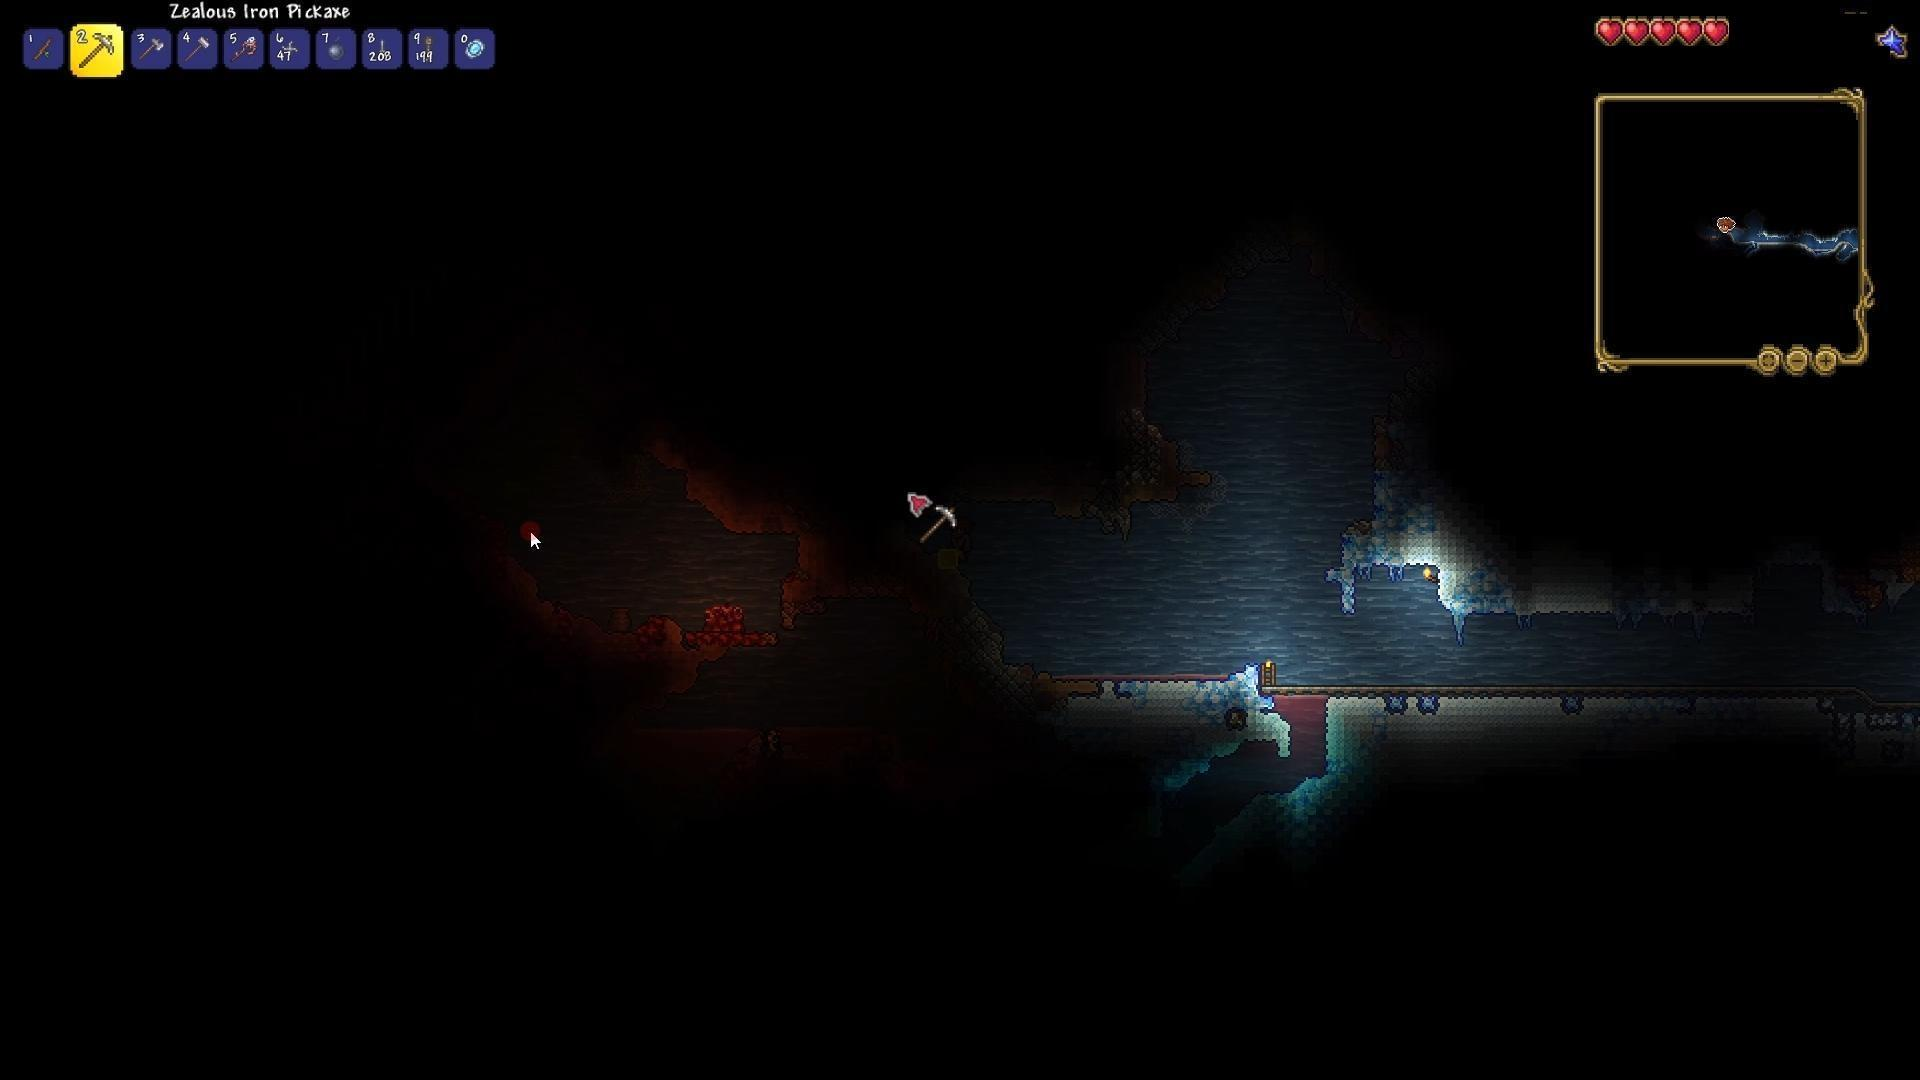heart: (1702, 17, 1733, 51), (1593, 16, 1626, 46), (1676, 15, 1704, 50), (1650, 16, 1676, 49), (1625, 15, 1651, 44)
snow: (1324, 688, 1636, 774)
